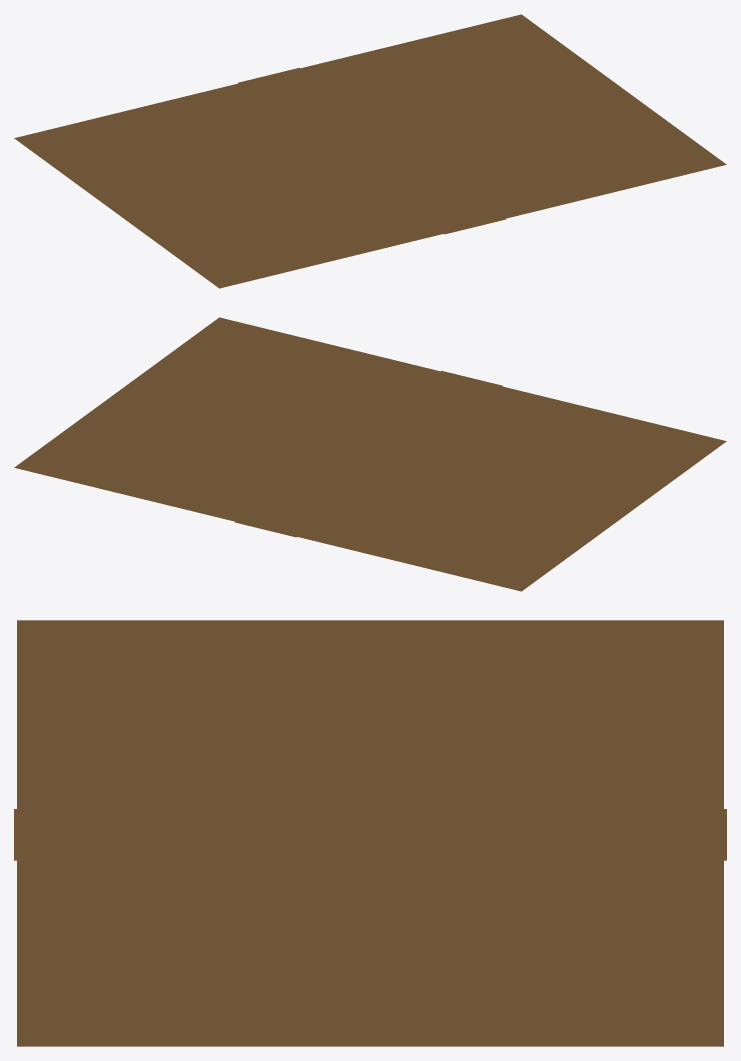
File: brick_house p1.dae
The picture shows the model from 3 angles, top to bottom: view 1: azimuth 30°, elevation 25°; view 2: azimuth 150°, elevation 25°; view 3: azimuth 270°, elevation 25°; orthographic projection. The views are drawn at different scales.
Visible parts, largest first — view 1: SketchUp; view 2: SketchUp; view 3: SketchUp.
Boxes of the visible parts, x1,y1,x2,y2 form: SketchUp: (14, 14, 726, 288); SketchUp: (14, 317, 726, 591); SketchUp: (14, 620, 726, 1046).
Bounding box in the file's own units: 391 × 276 × 0.
